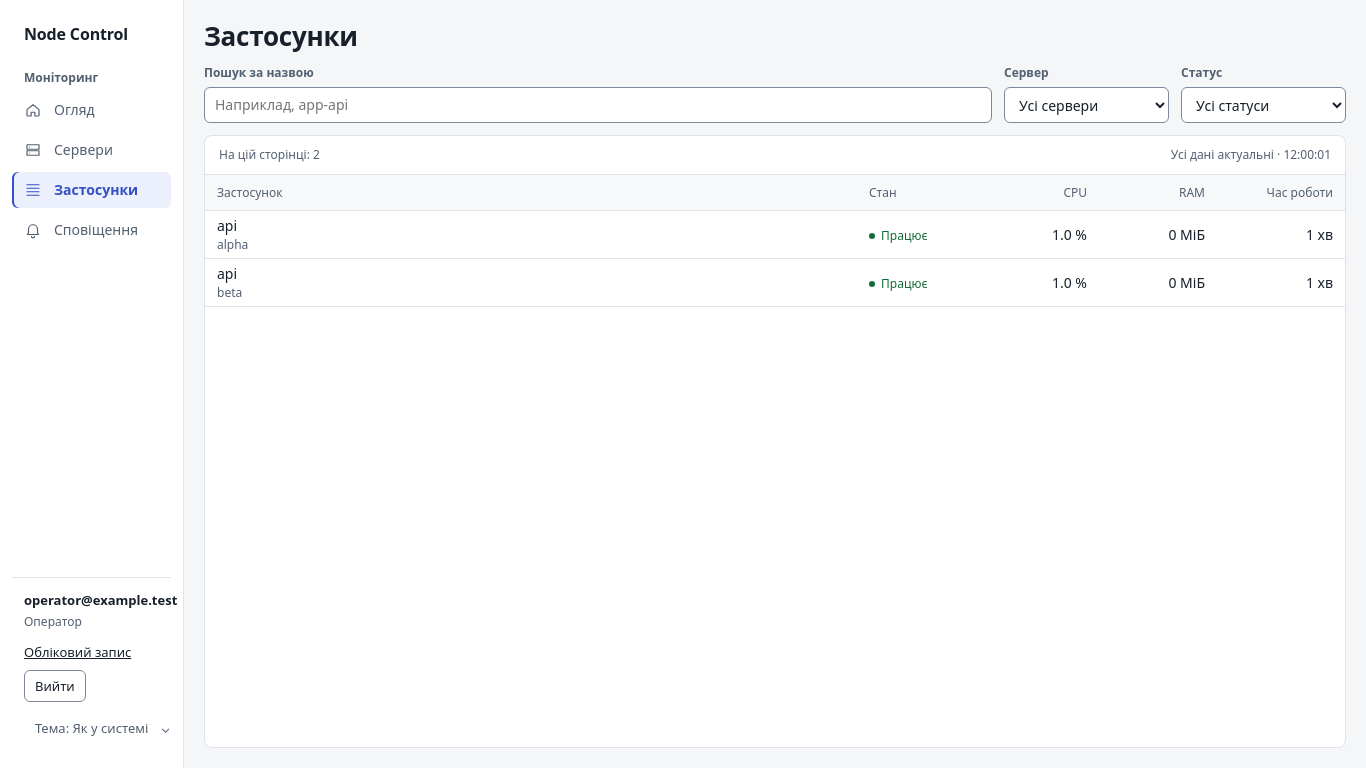
Test: applications workspace: actions › double click on «Перезапустити» and on the confirmation sends one command
Click the button "api alpha Працює 1.0 % 0 МіБ 1 хв".
click(233, 244)  # box 205,211 -> 1345,258
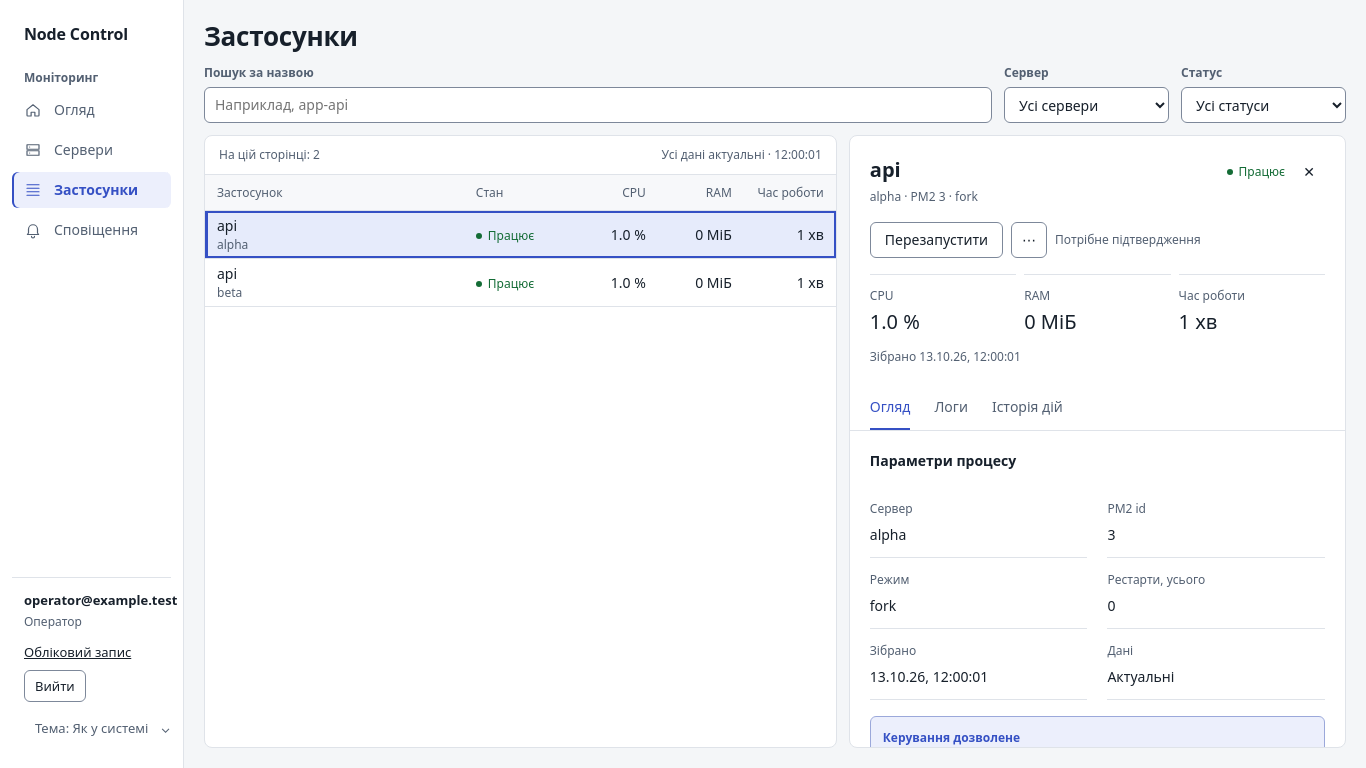
Double-click the button "Перезапустити".
double_click(936, 240)  # box 870,222 -> 1003,258
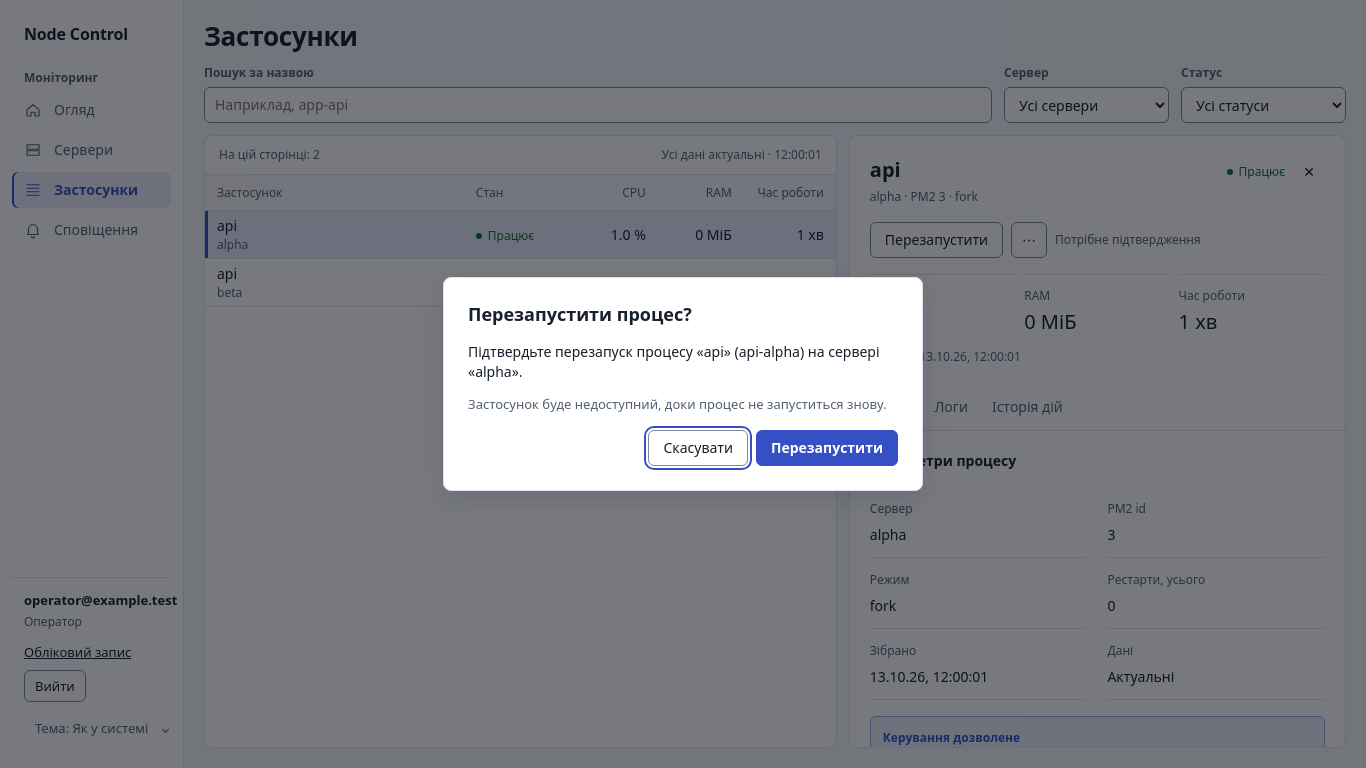
Expected: the number of dialogs is 1, 443,277 -> 923,491
Double-click the button "Перезапустити".
double_click(827, 448)  # box 756,430 -> 898,466
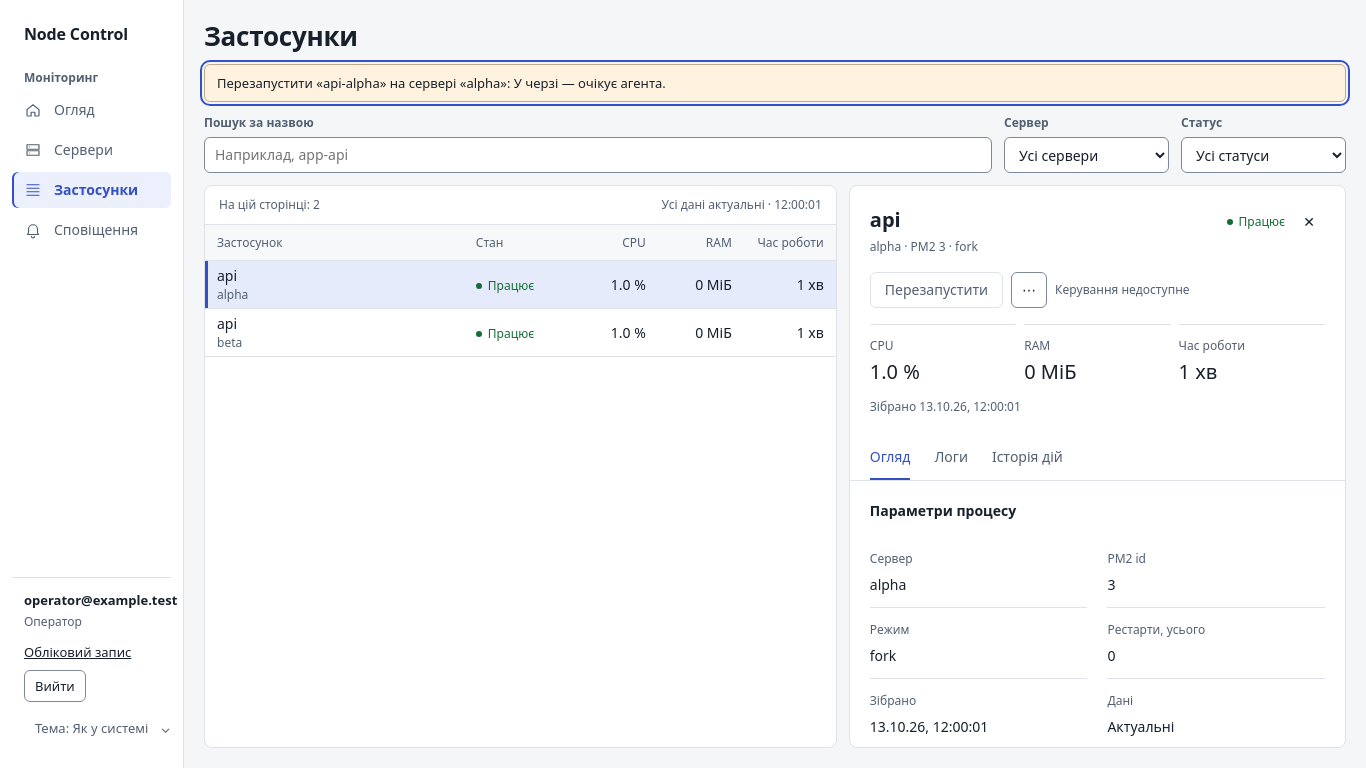
Expected: the text "Перезапустити «api-alpha» на сервері «alpha»: У черзі — очікує агента." is shown, 204,64 -> 1346,102
